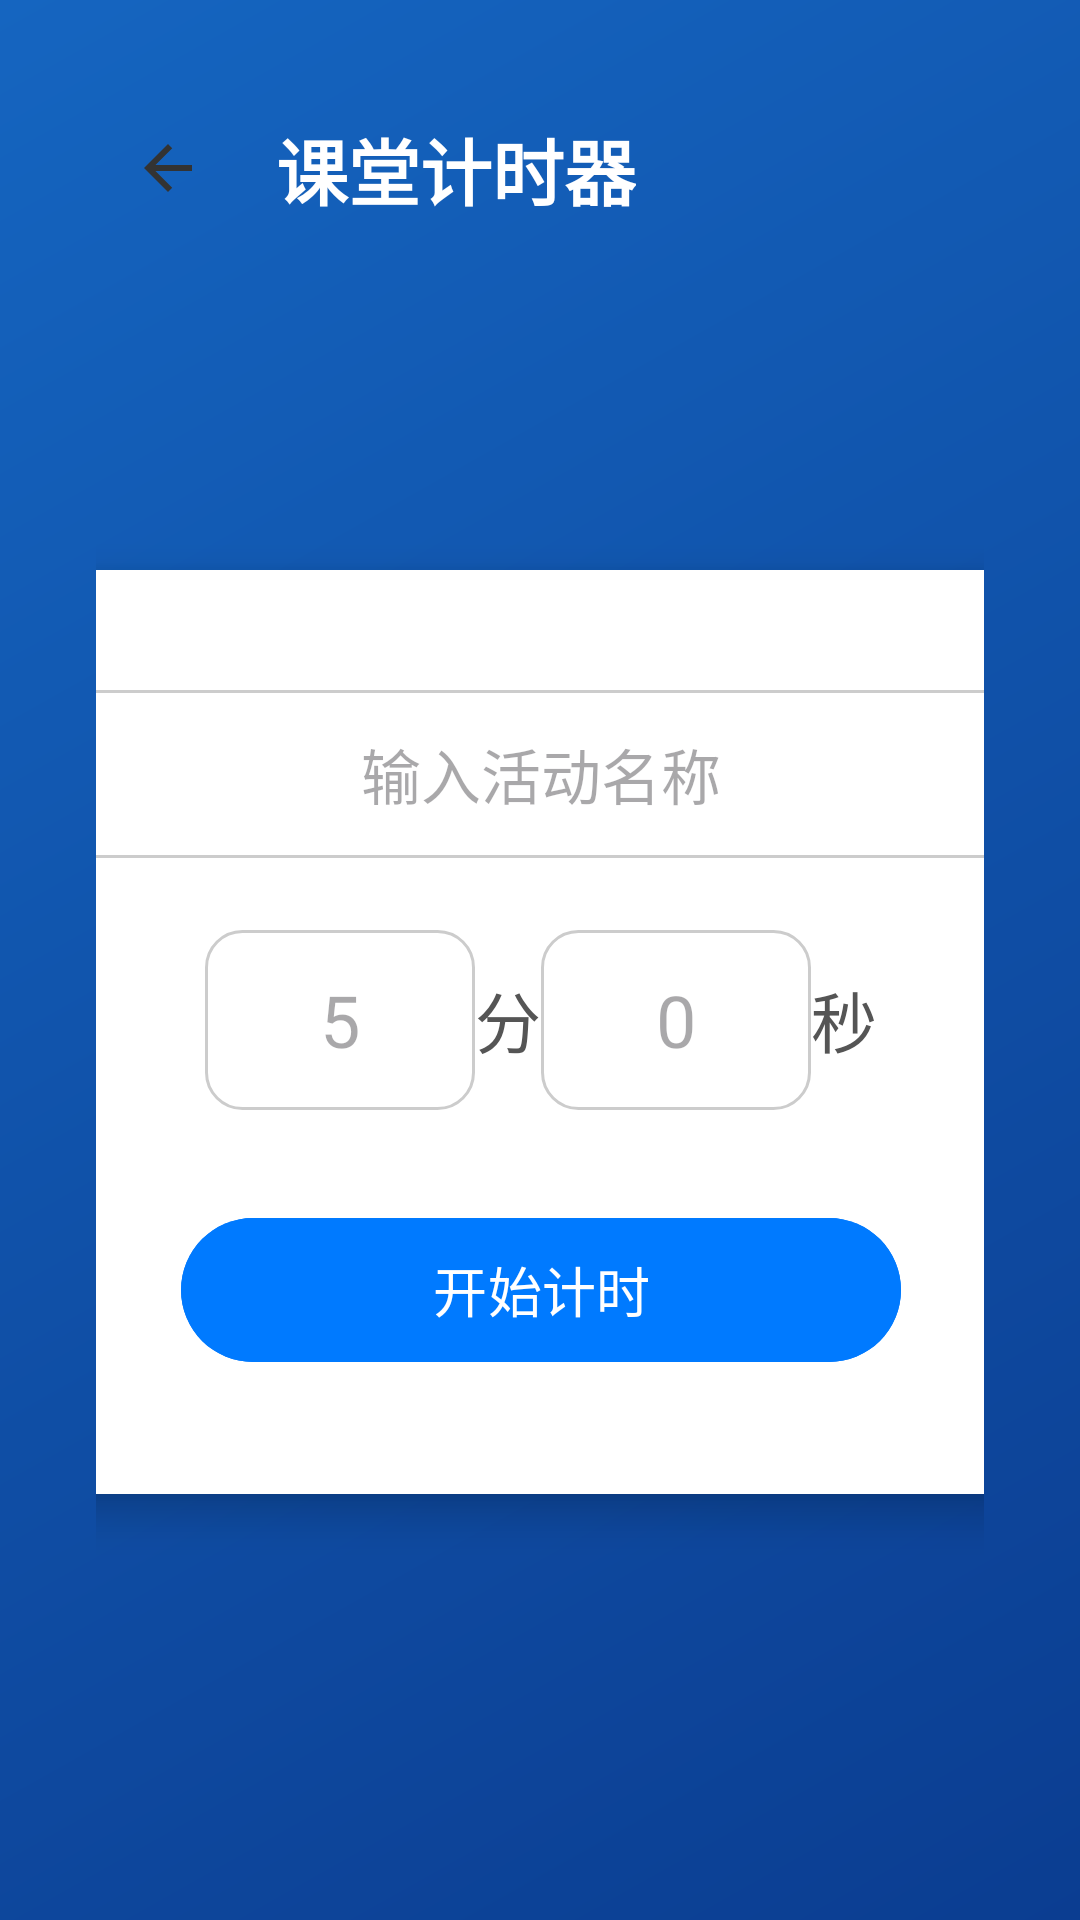

Screen size 1080px×1920px. Icon name, then its center in pixels as [x,y]:
返回: [168,168]
